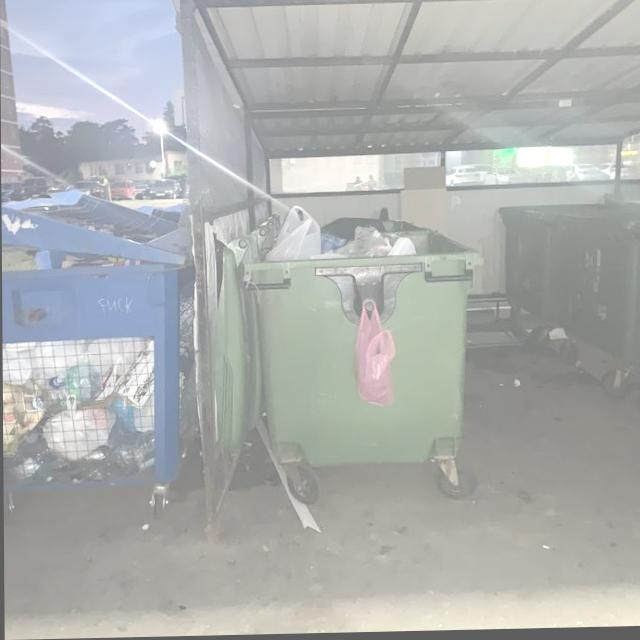Trash_Can_Full: (242, 202, 479, 469), (1, 186, 195, 486)
